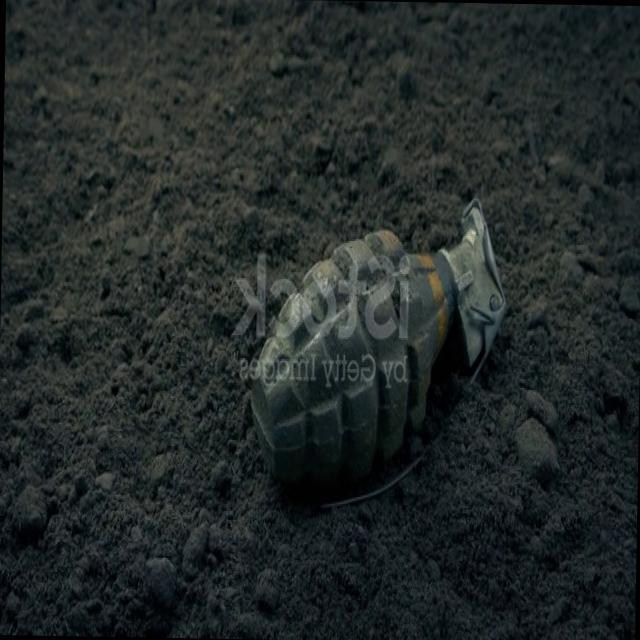grenade: (244, 193, 504, 520)
